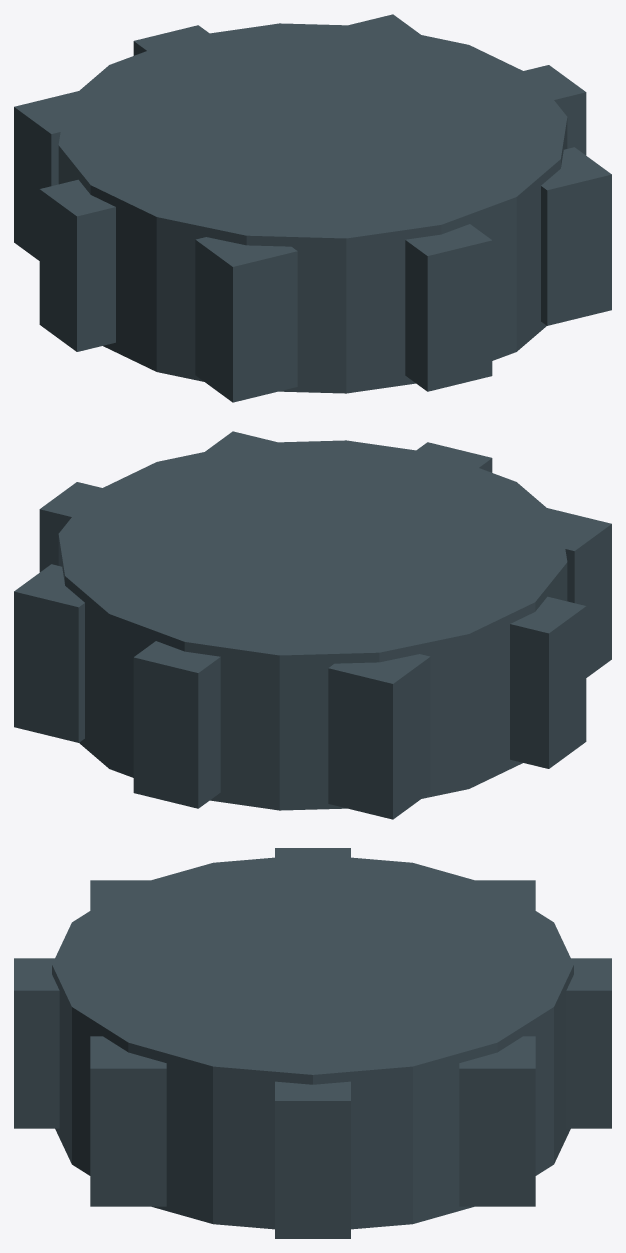
The model's file is set_brake_disc.glb.
3 renders of one model, top to bottom at view 1: azimuth 30°, elevation 25°; view 2: azimuth 150°, elevation 25°; view 3: azimuth 270°, elevation 25°, orthographic.
Parts seen in each view (by area): view 1: set_brake_disc; view 2: set_brake_disc; view 3: set_brake_disc.
Part boxes in pixels (box(x1,y1,x2,y2)): set_brake_disc: box(14, 14, 611, 402); set_brake_disc: box(14, 431, 611, 819); set_brake_disc: box(14, 848, 611, 1238).
Bounding box in the file's own units: 0.275 × 0.08 × 0.275.
